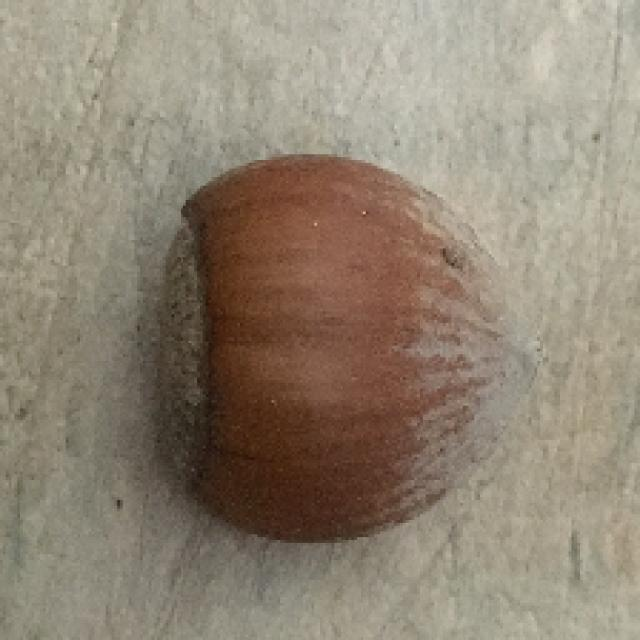qualityHazelnut: (134, 165, 533, 543)
